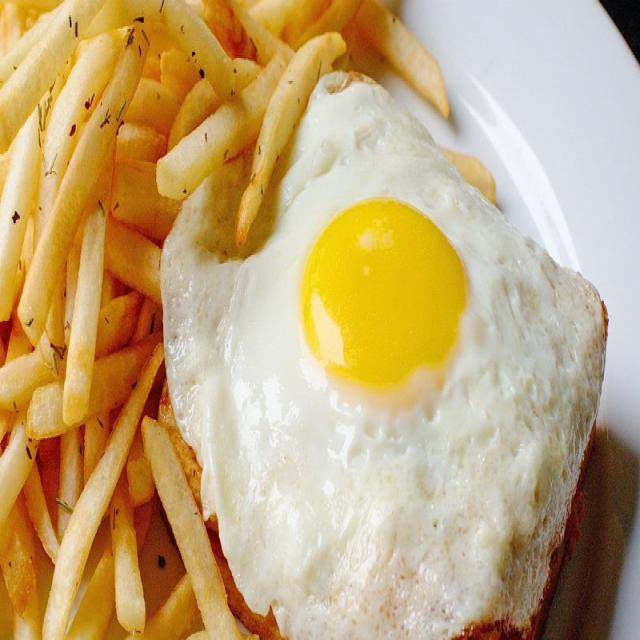Fried Egg: (164, 74, 599, 638)
